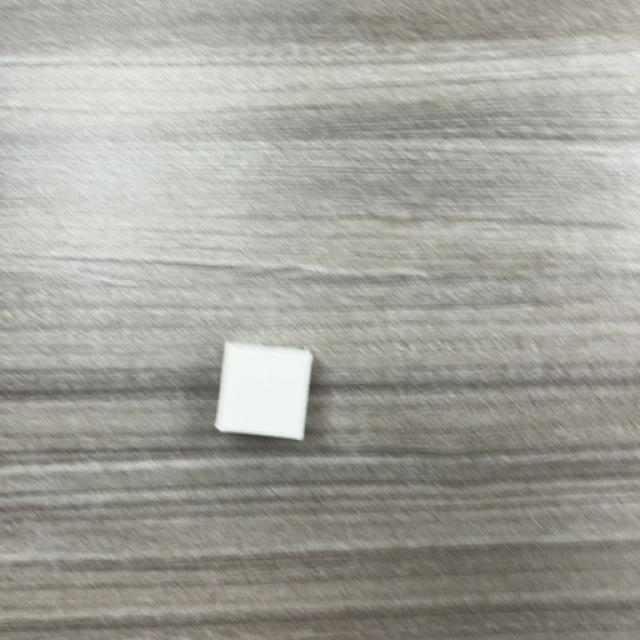Blanco: (215, 342, 314, 442)
